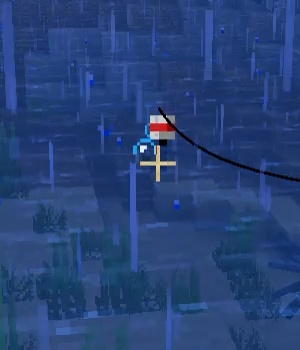up: (147, 110, 178, 163)
